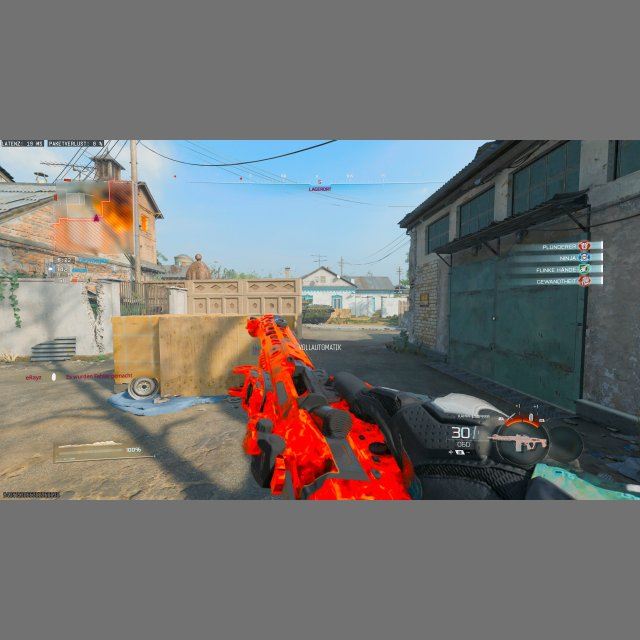head: (273, 315, 287, 330)
